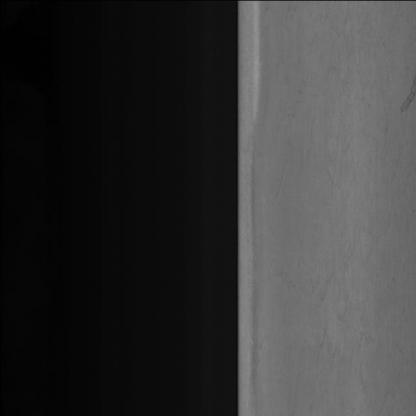water_spot: (393, 59, 414, 126)
